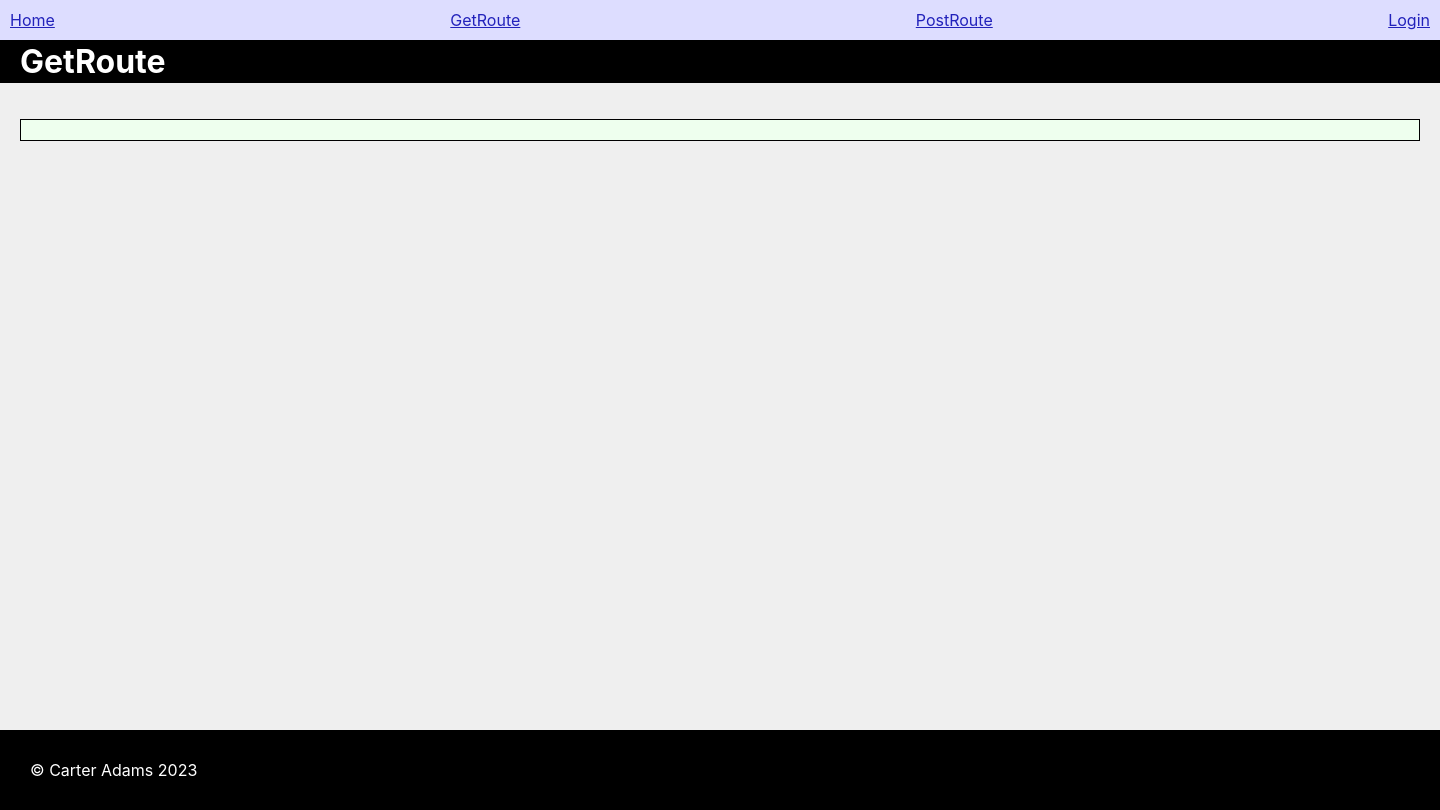
Test: api routes › posts data to the route
Click the link "PostRoute" at point(954, 20), box [916,10,993,30]
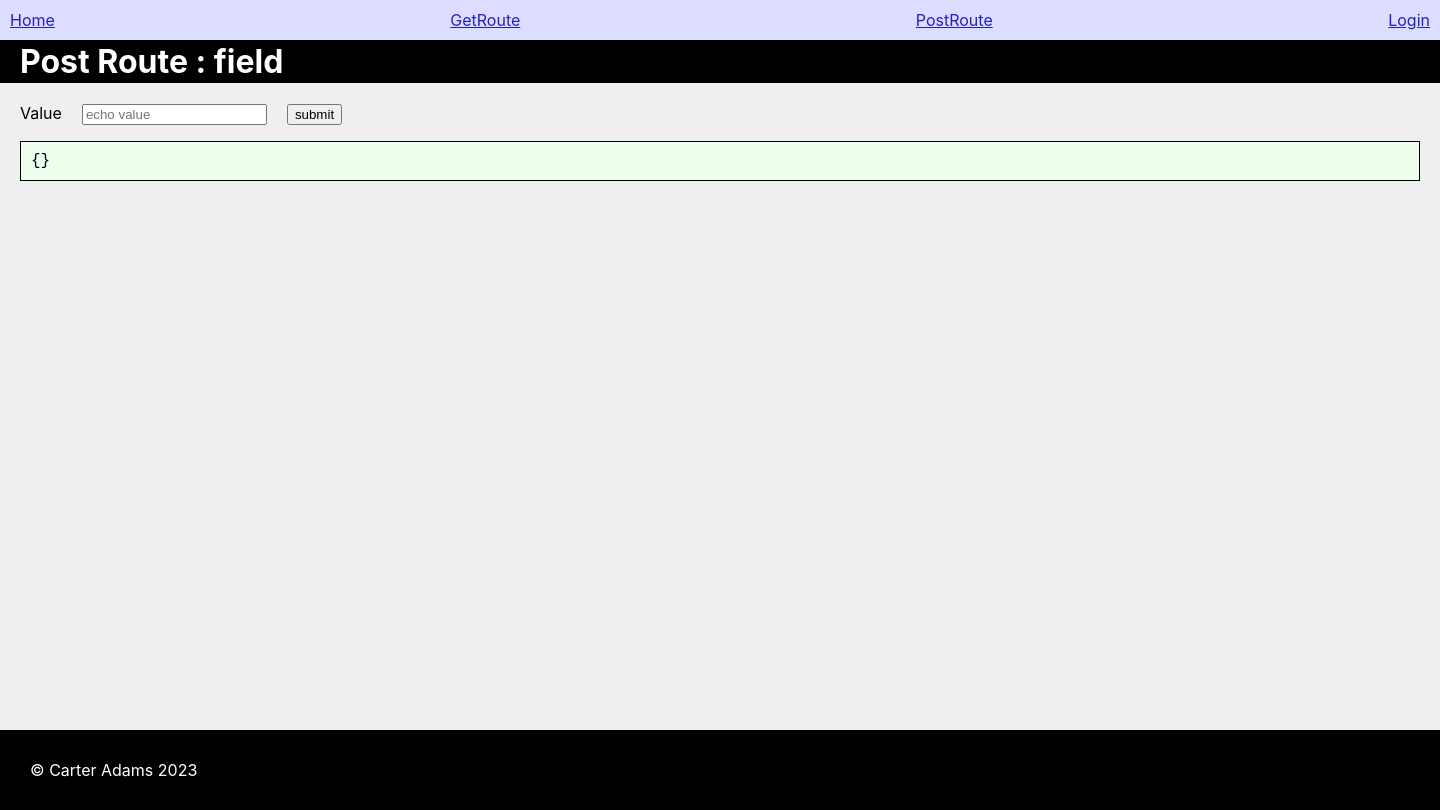
Type "ok" into the field with placeholder "echo value" at point(174, 114), box [82,104,267,125]
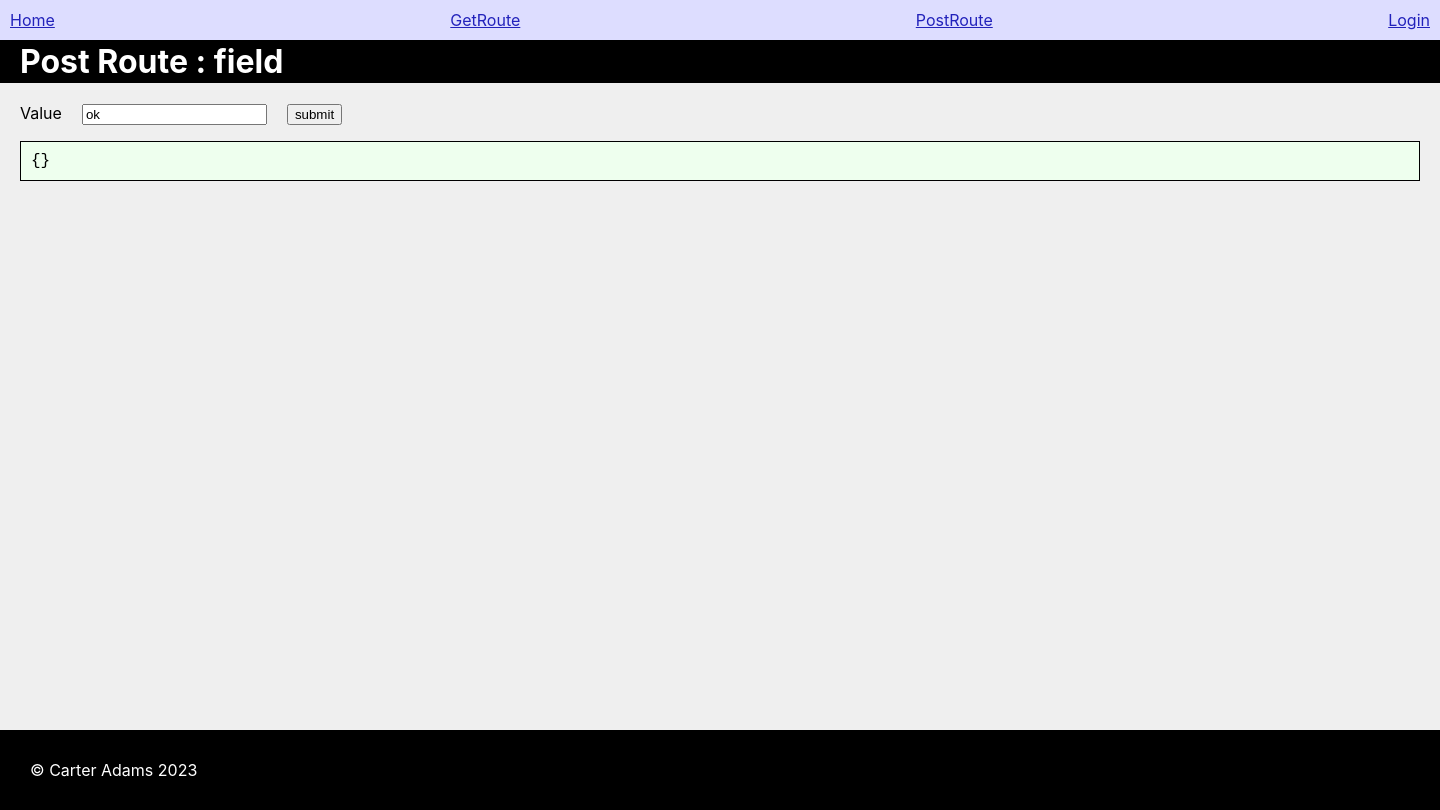
Click the button "submit" at point(315, 114), box [287,104,342,125]
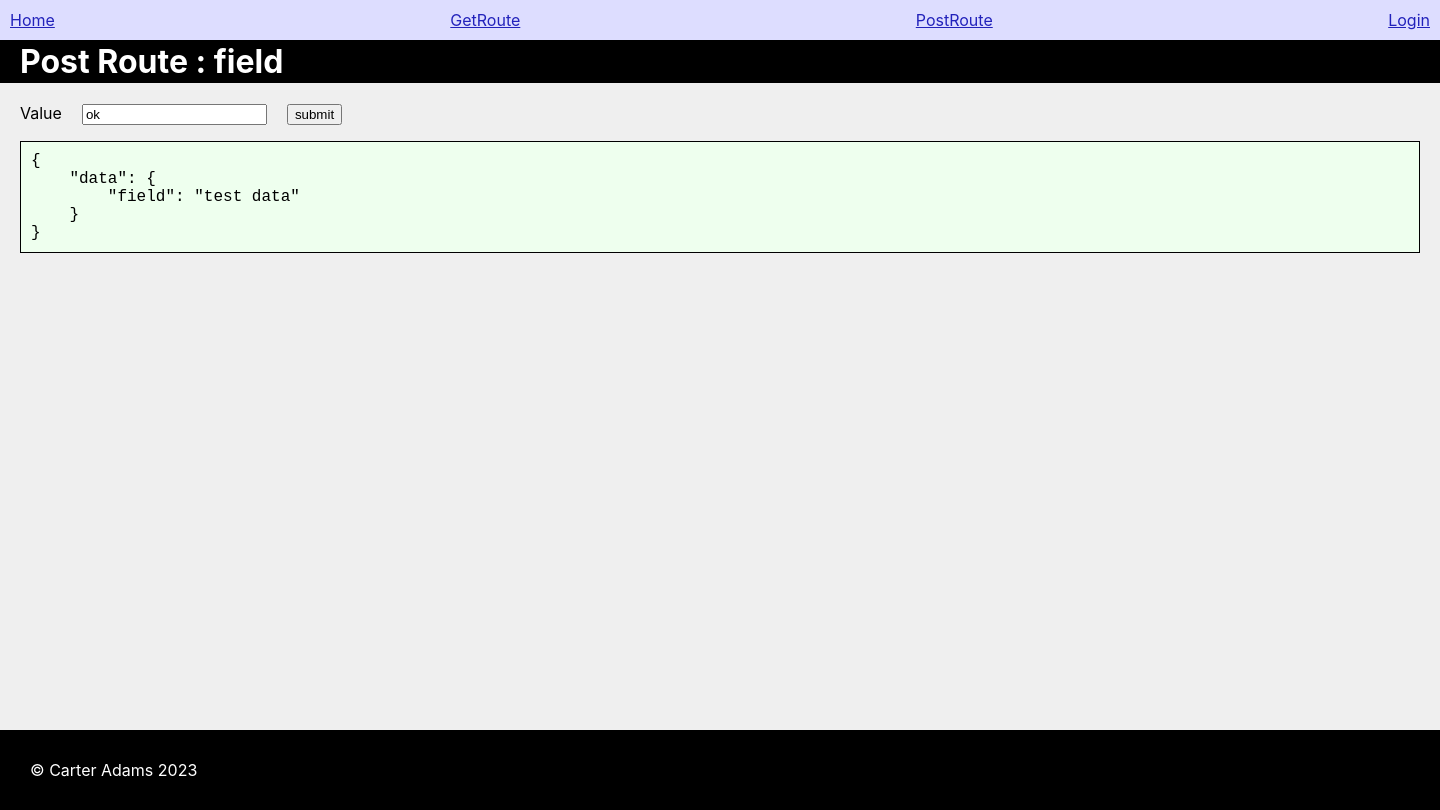
Expected: the text "{ \"data\": { \"field\": \"test data\" } }" is shown, [20,141,1420,253]
